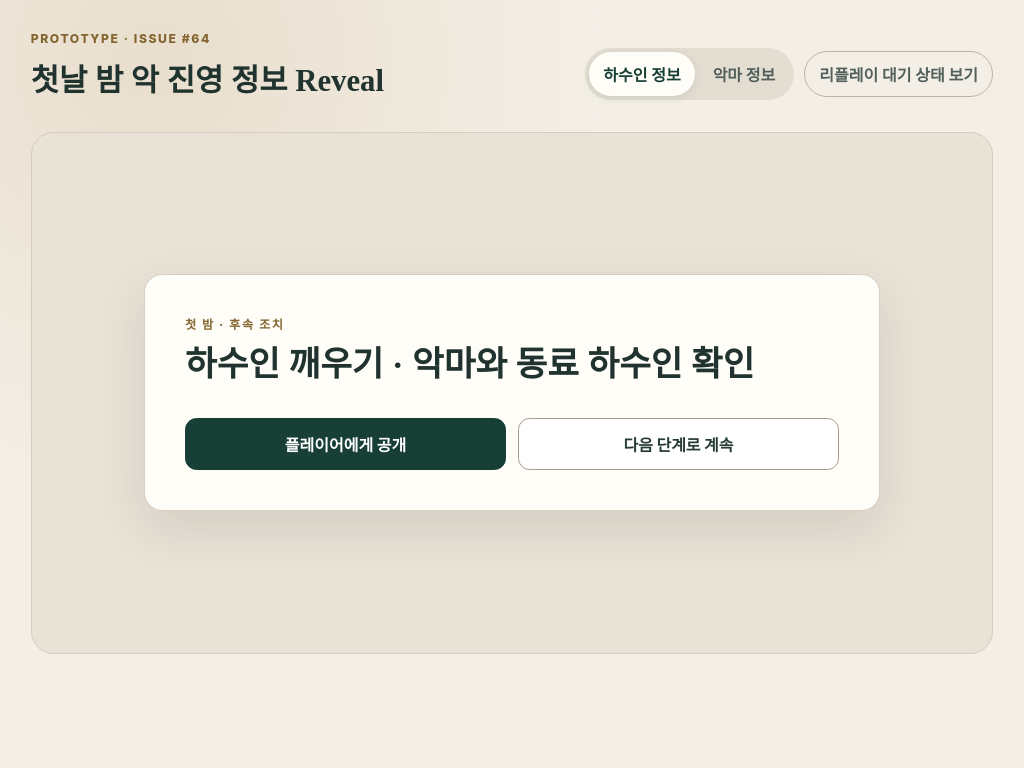
Scenario: keeps the confirmed Minion follow-up concise and opens a safe identity-only Reveal
Expected: the heading "하수인 깨우기 · 악마와 동료 하수인 확인" is shown, [185,342,839,386]
Expected: the button "다음 단계로 계속" is shown, [518,418,839,470]
Click the button "플레이어에게 공개": (346, 444) [185,418,506,470]
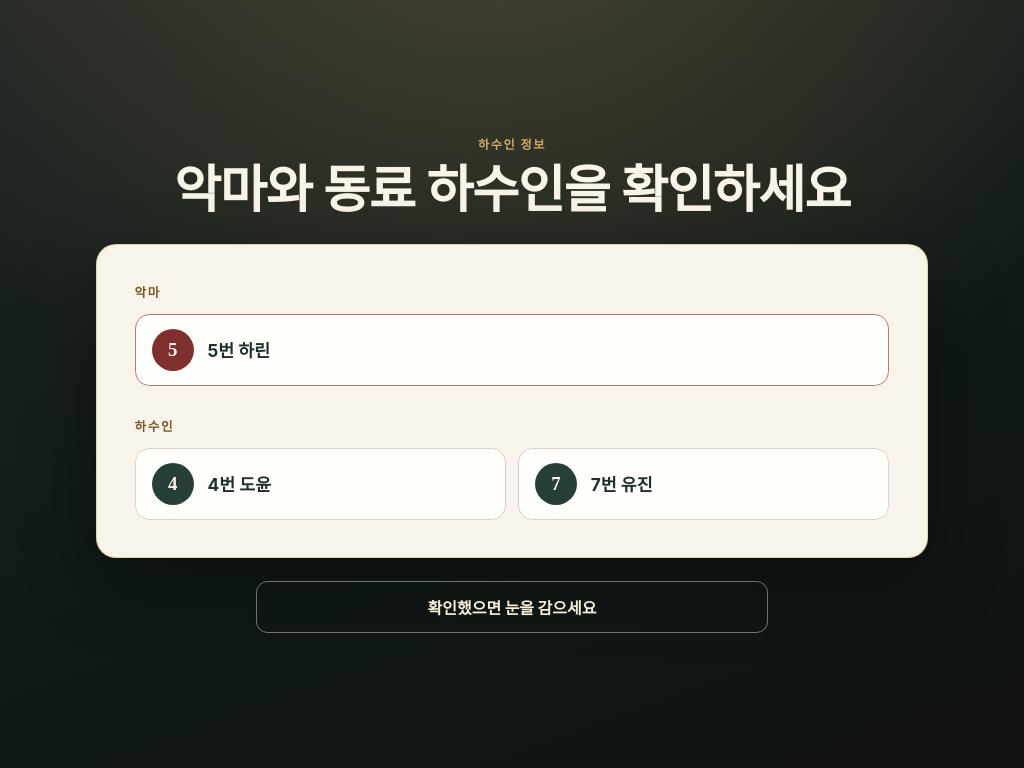
Expected: the heading "악마와 동료 하수인을 확인하세요" is shown, [174,162,850,221]
Expected: the text "5번 하린" is shown, [208,337,270,362]
Expected: the text "4번 도윤" is shown, [208,472,271,496]
